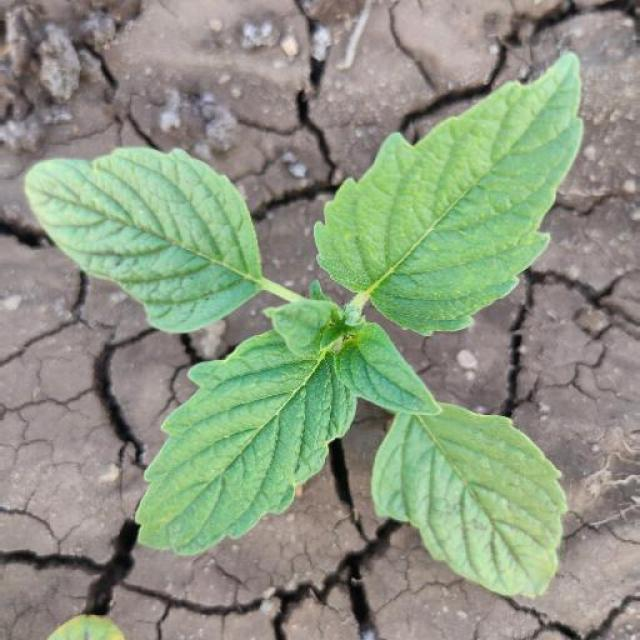crop: (22, 48, 594, 598)
